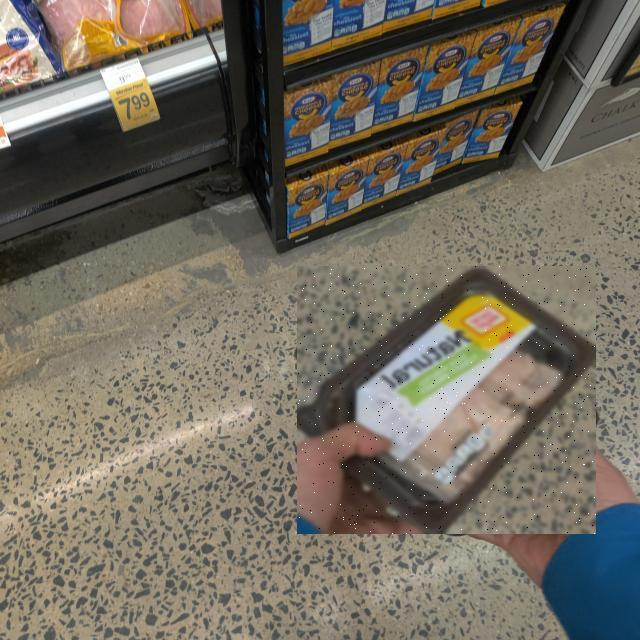Meat: (297, 266, 596, 534)
